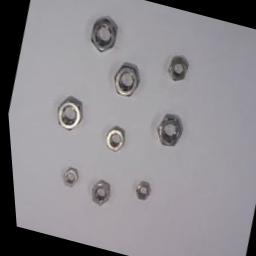Non-corroded Nut: (112, 61, 139, 96), (90, 16, 117, 51), (55, 95, 81, 130), (155, 113, 180, 146), (167, 55, 188, 80), (104, 124, 123, 151), (88, 178, 107, 205), (59, 166, 76, 186), (133, 180, 148, 199)
